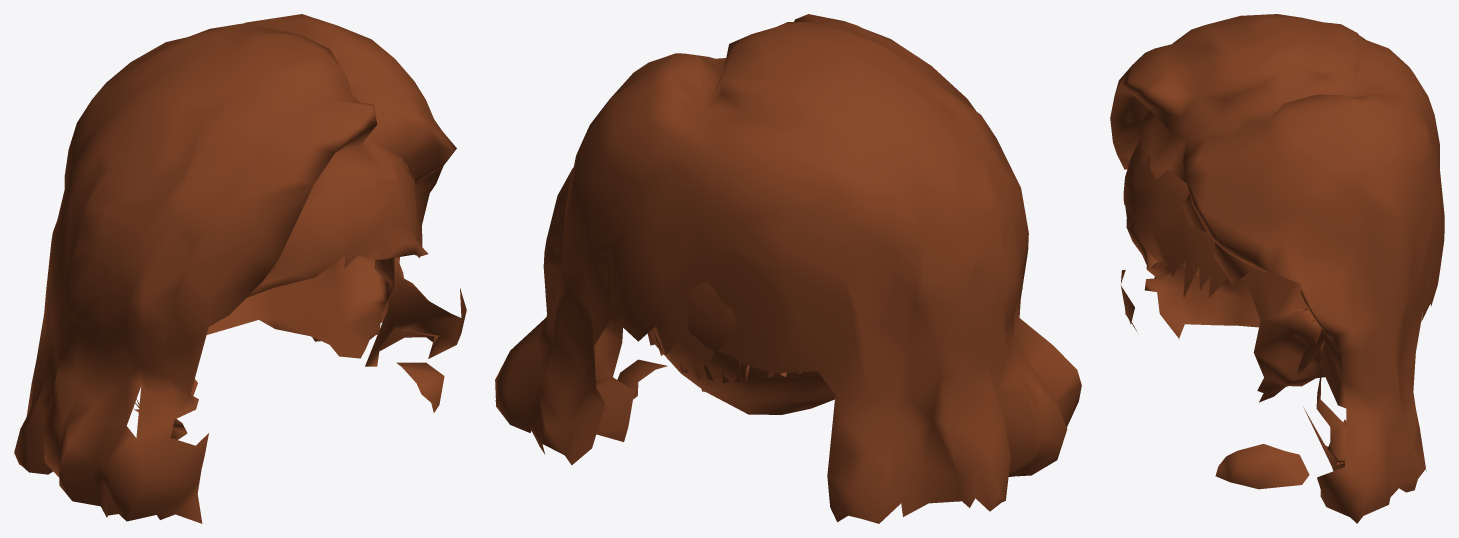
The model's file is long-wavy.glb.
3 renders of one model, left to right at view 1: azimuth 30°, elevation 25°; view 2: azimuth 150°, elevation 25°; view 3: azimuth 270°, elevation 25°, orthographic. The views are drawn at different scales.
Visible parts, largest first — view 1: Hair, HairScalp; view 2: Hair, HairScalp, HairPulledRootStrands; view 3: Hair, HairScalp.
Part boxes in pixels (<box>): Hair: <box>14,14,466,523</box>; HairScalp: <box>190,157,428,395</box>; Hair: <box>495,14,1081,523</box>; HairScalp: <box>650,281,835,414</box>; HairPulledRootStrands: <box>647,328,801,383</box>; Hair: <box>1110,14,1444,523</box>; HairScalp: <box>1123,140,1324,402</box>.
Bounding box in the file's own units: 0.7516 × 0.5801 × 0.466.
